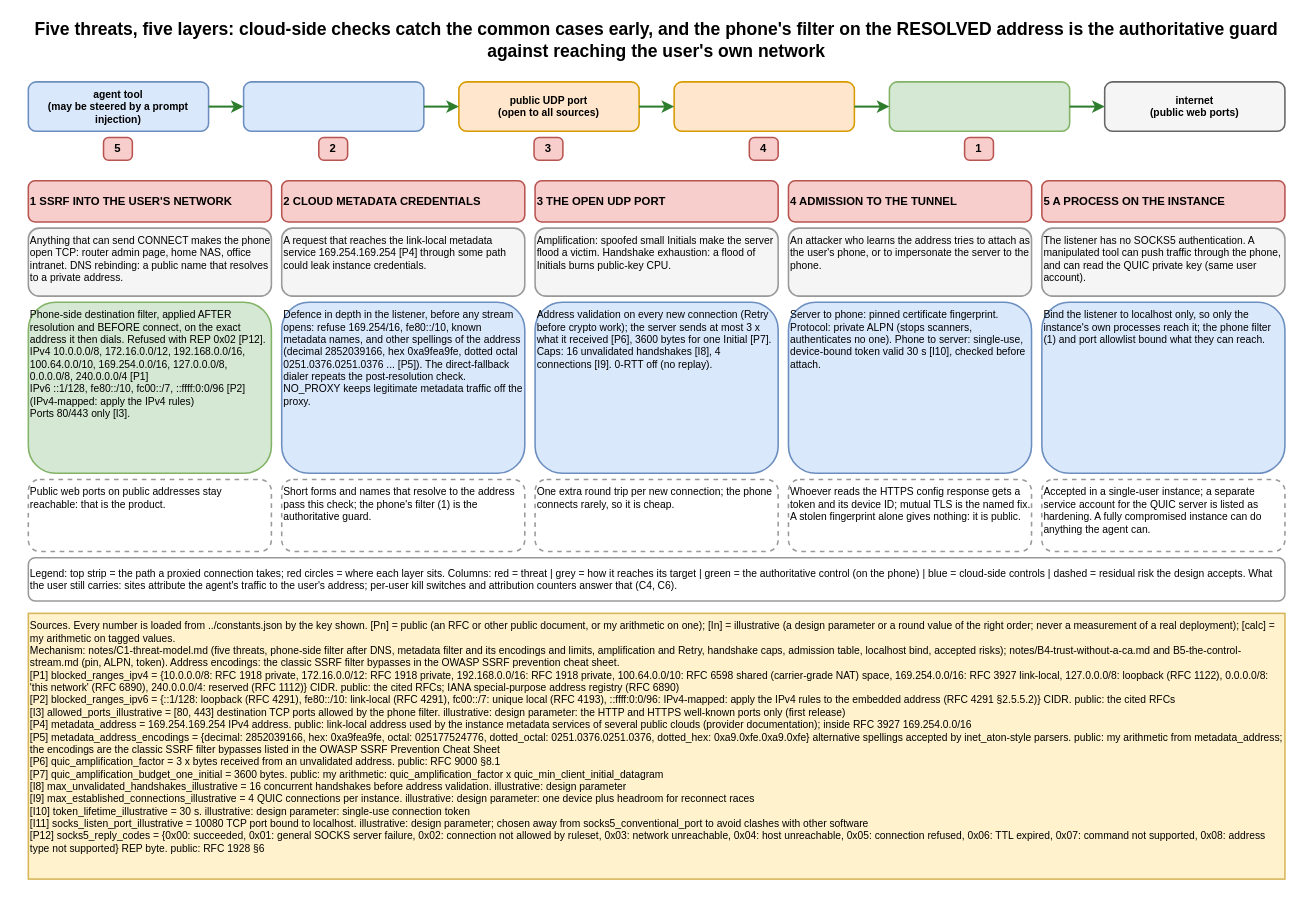
Image size: 1312x897. Some labels were removed from this diagram. The centre of each missing label's shape, as x and y in pixels:
listener localhost:10080 [I11]: [333,106]
phone resolver + filter: [979,106]
tunnel admission (handshake + stream 0): [764,106]
